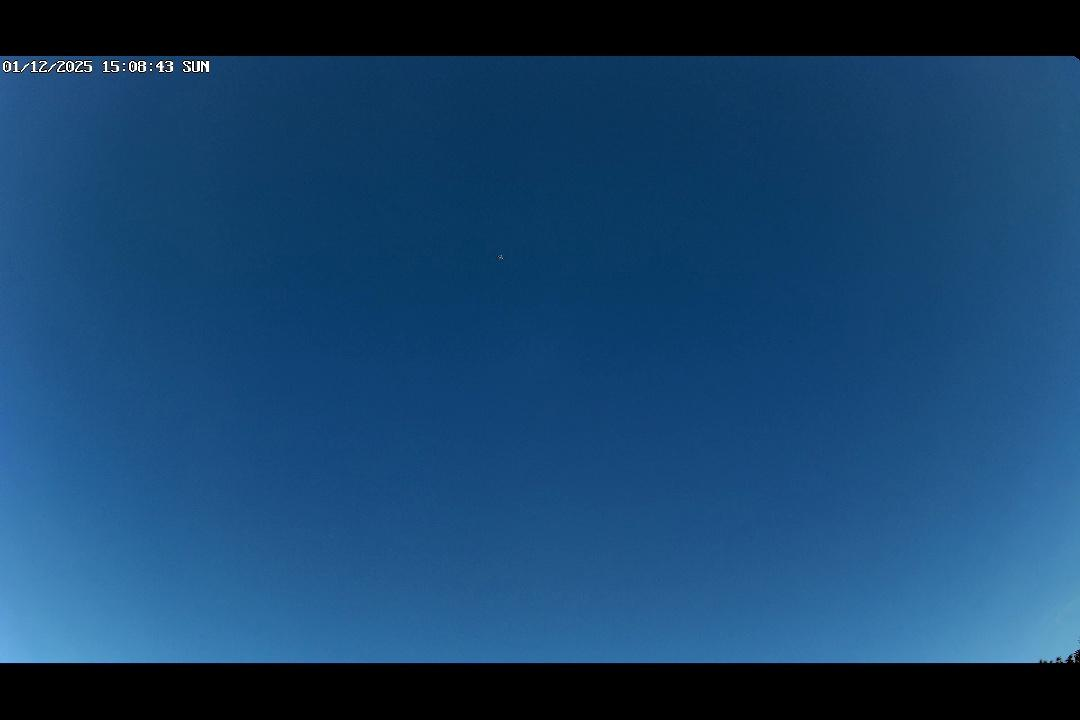WildLife: (492, 251, 512, 263)
